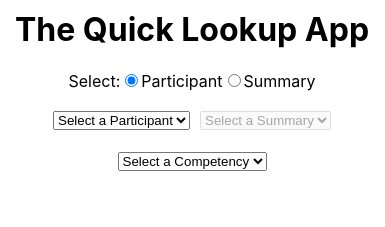
it: Correct output when selecting `total` for participant 2 › should get the correct result after selecting 'Participant' and 'Competency' select boxes
Select "2" in the dropdown with test id "select-participant" at (122, 120), box x1=53 y1=111 x2=190 y2=130
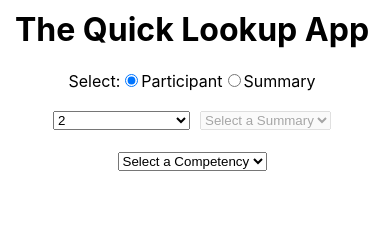
Select "Total" in the dropdown with test id "select-competency" at (192, 161), box x1=118 y1=152 x2=266 y2=171
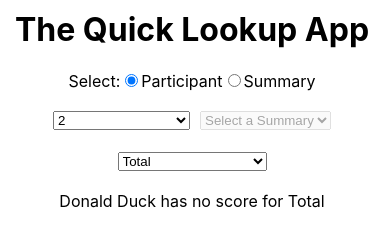
Check: the text "Donald Duck has no score for Total" is shown, box x1=59 y1=191 x2=325 y2=211
